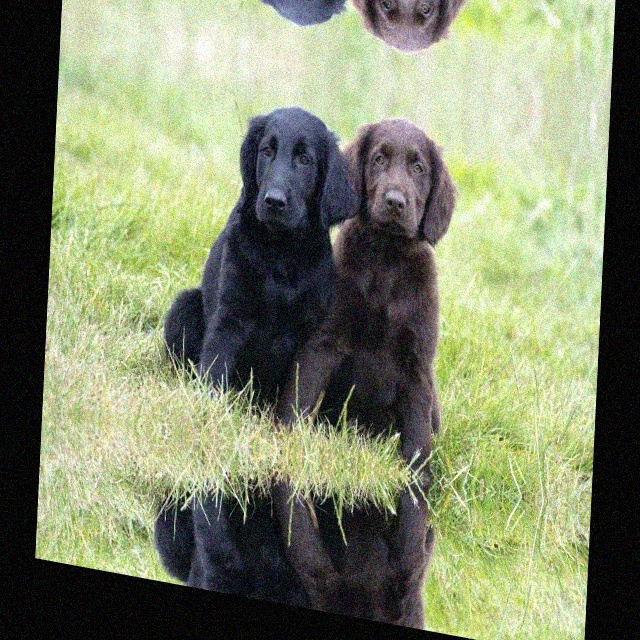dog: (342, 101, 471, 251), (228, 80, 340, 235), (350, 0, 480, 71), (237, 0, 349, 46)
